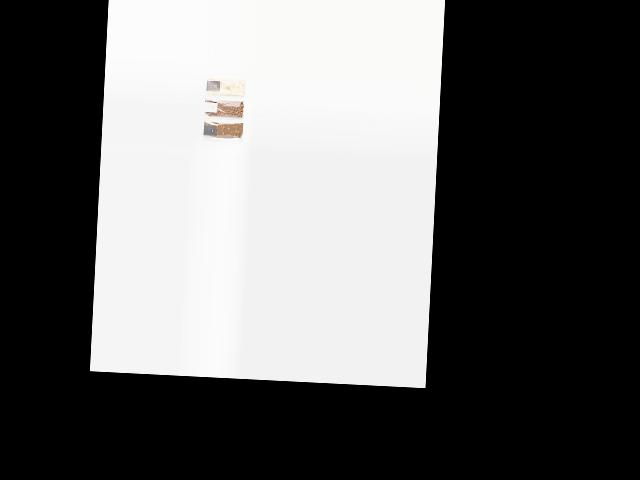chocolate: (203, 122, 245, 142)
